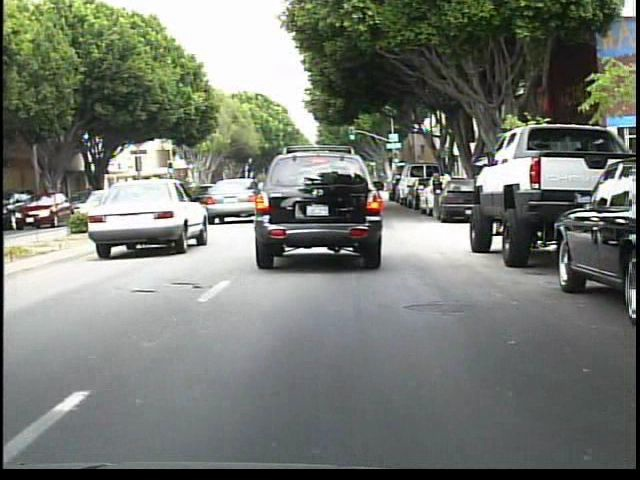person: (429, 174, 446, 222), (437, 166, 454, 214)
